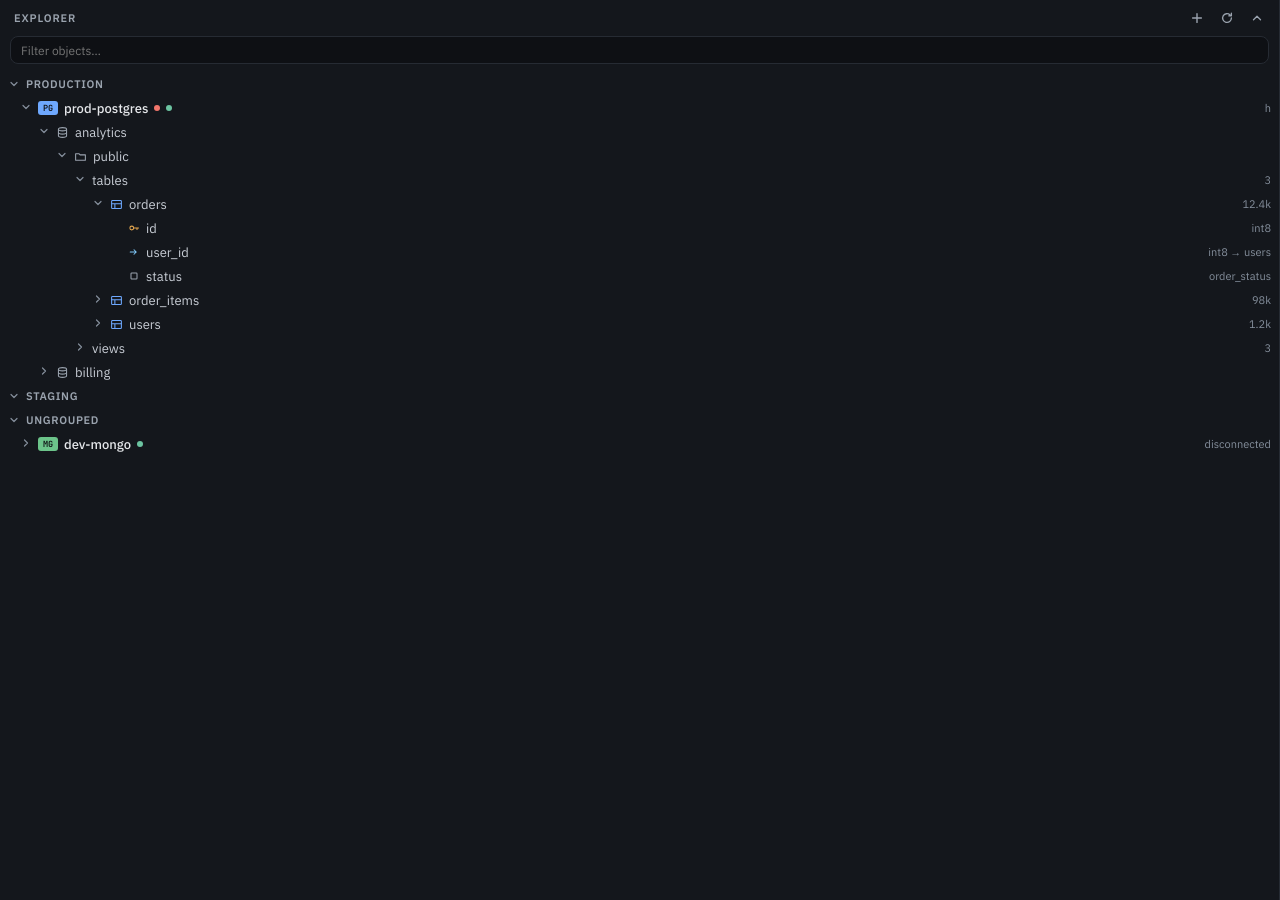
Test: filter › "ord" keeps orders, order_items and their ancestors, highlighting the match (spec: database-explorer › Filter tables)
Type "ord" into the field named "Filter explorer" at coordinates (640, 50), box [10, 36, 1269, 64]
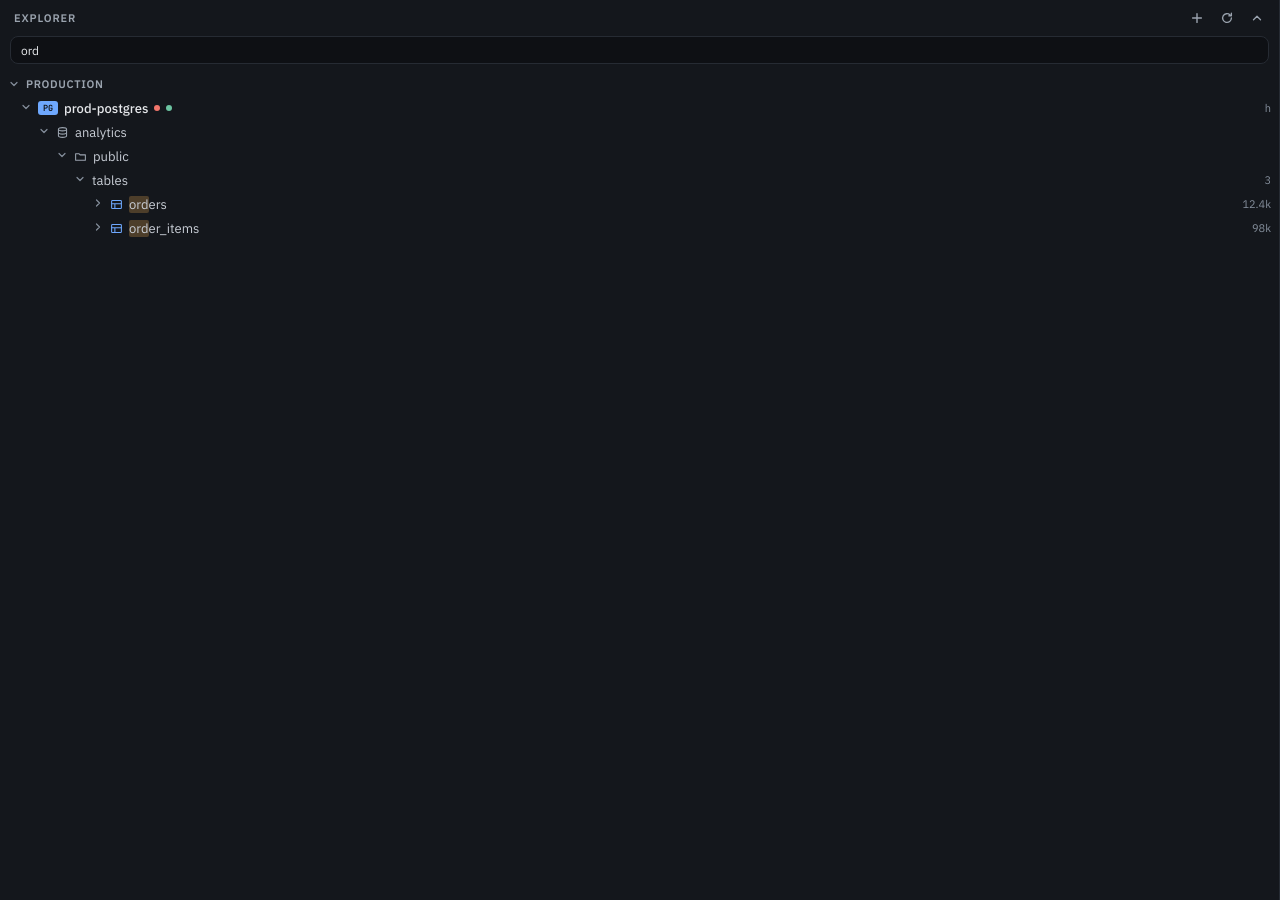
Expected: the text "billing" is gone
